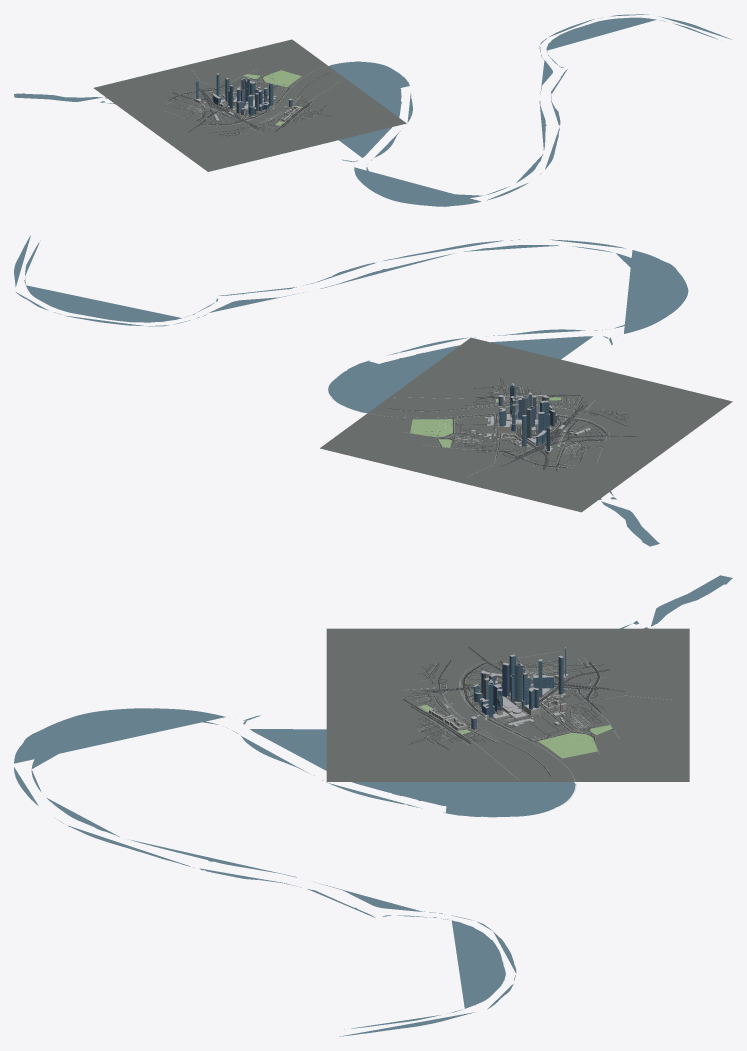
File: msk-city-finished.glb
The picture shows the model from 3 angles, top to bottom: view 1: azimuth 30°, elevation 25°; view 2: azimuth 150°, elevation 25°; view 3: azimuth 270°, elevation 25°; orthographic projection. The views are drawn at different scales.
Size of the model in its own units: 9622 by 394 by 6337.
23 materials, 7 textured.
